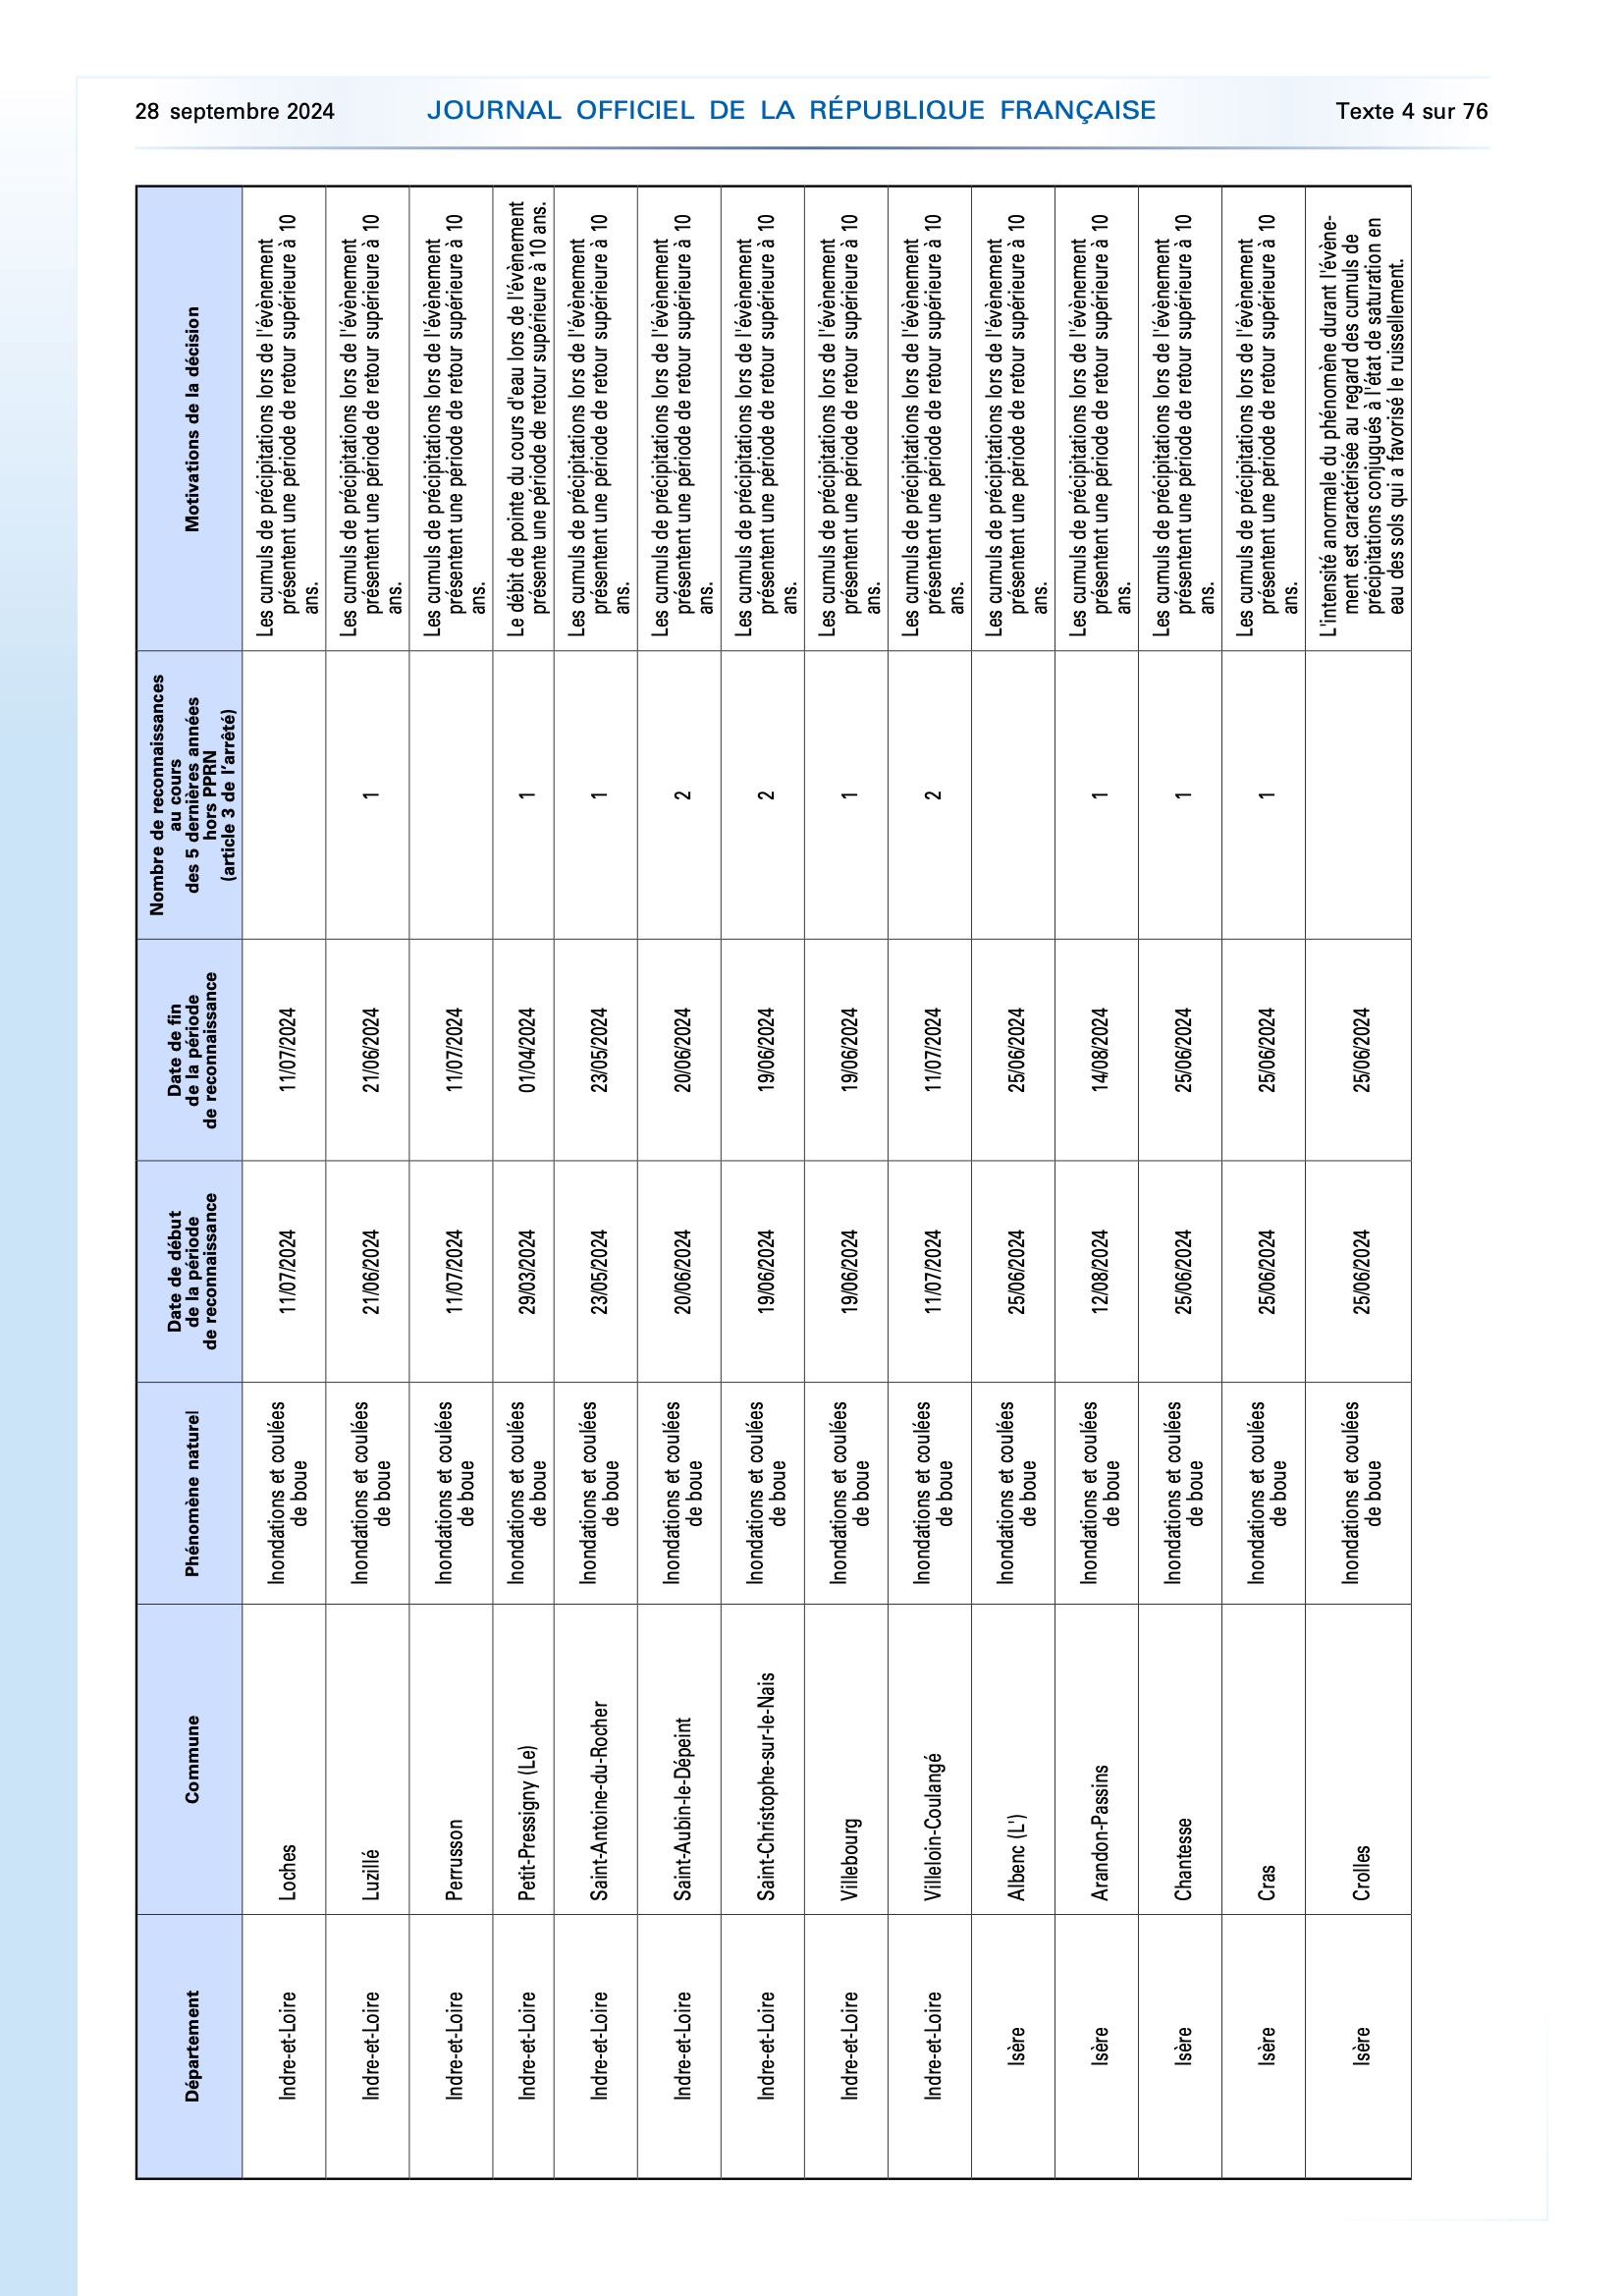MainZone-Date: (119, 93, 353, 137)
NumberingZone: (1330, 93, 1493, 134)
RunningTitleZone: (420, 93, 1163, 134)
TableZone: (109, 153, 1423, 2252)
